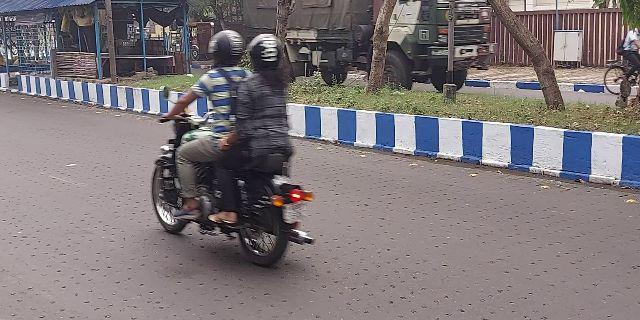Motorbike: (145, 15, 322, 260)
